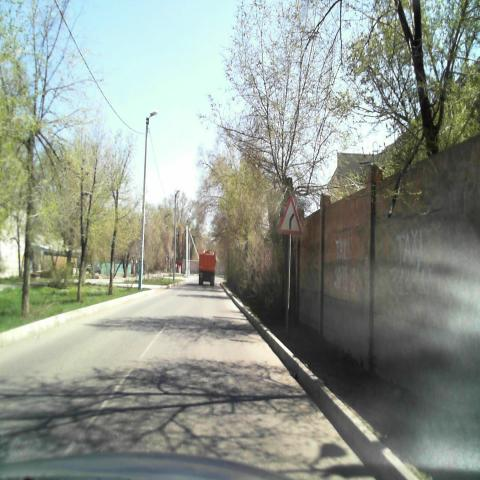1_11: (275, 196, 304, 235)
